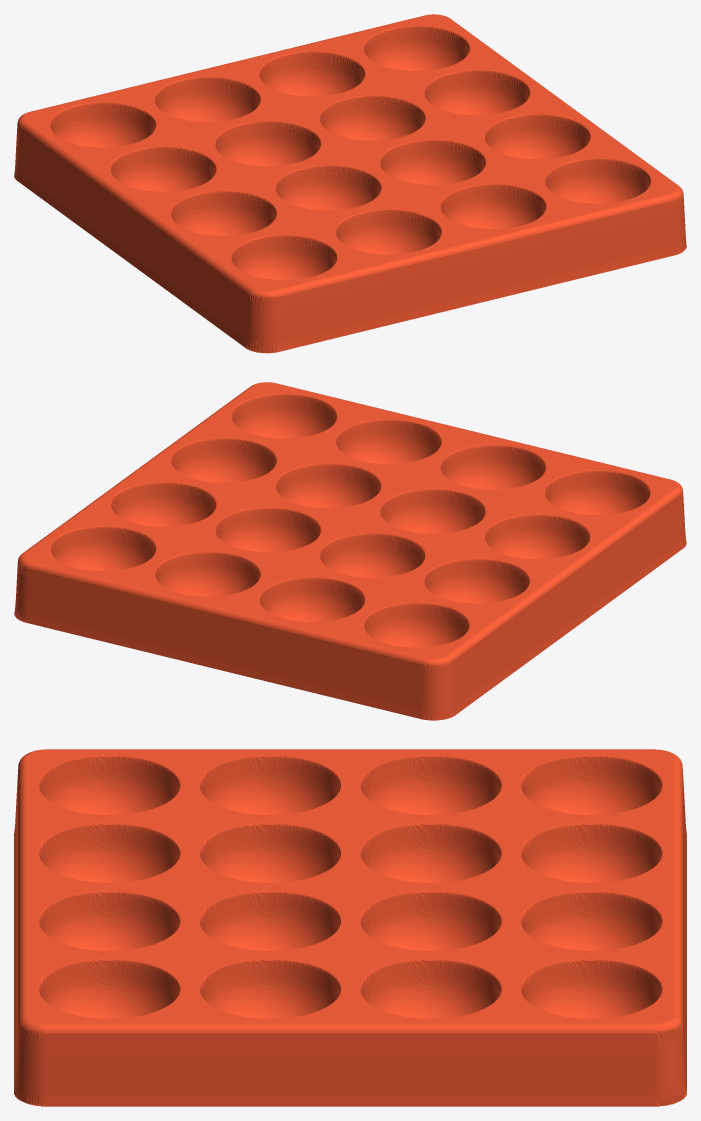
Rendered from mold.glb.
3 renders of one model, top to bottom at view 1: azimuth 30°, elevation 25°; view 2: azimuth 150°, elevation 25°; view 3: azimuth 270°, elevation 25°, orthographic. The views are drawn at different scales.
Visible parts, largest first — view 1: geometry_0; view 2: geometry_0; view 3: geometry_0.
Boxes of the visible parts, x1,y1,x2,y2 form: geometry_0: (14, 14, 686, 353); geometry_0: (14, 382, 686, 720); geometry_0: (14, 749, 686, 1106).
Bounding box in the file's own units: 0.1856 × 0.0235 × 0.1856.
